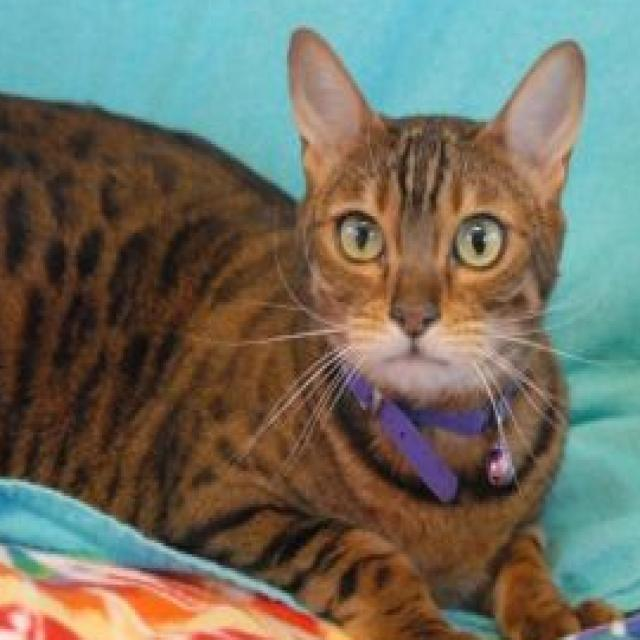Bengal: (0, 14, 623, 640)
